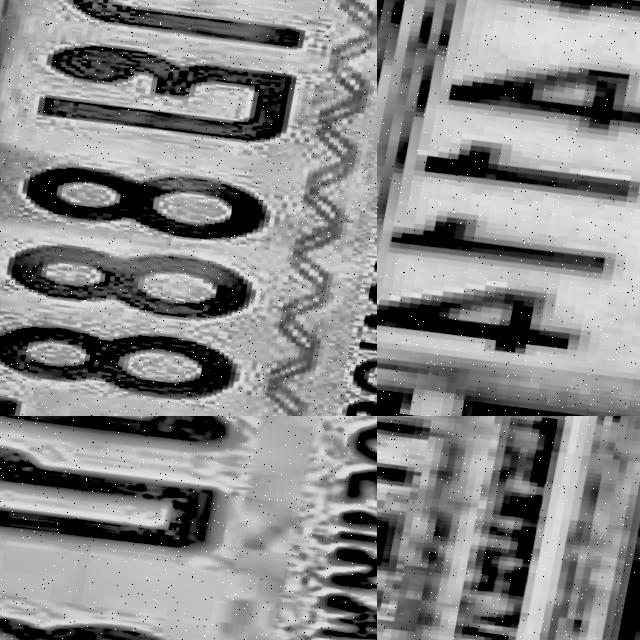license-plate: (0, 0, 377, 416), (377, 0, 640, 416), (0, 416, 377, 640), (377, 416, 640, 640)
